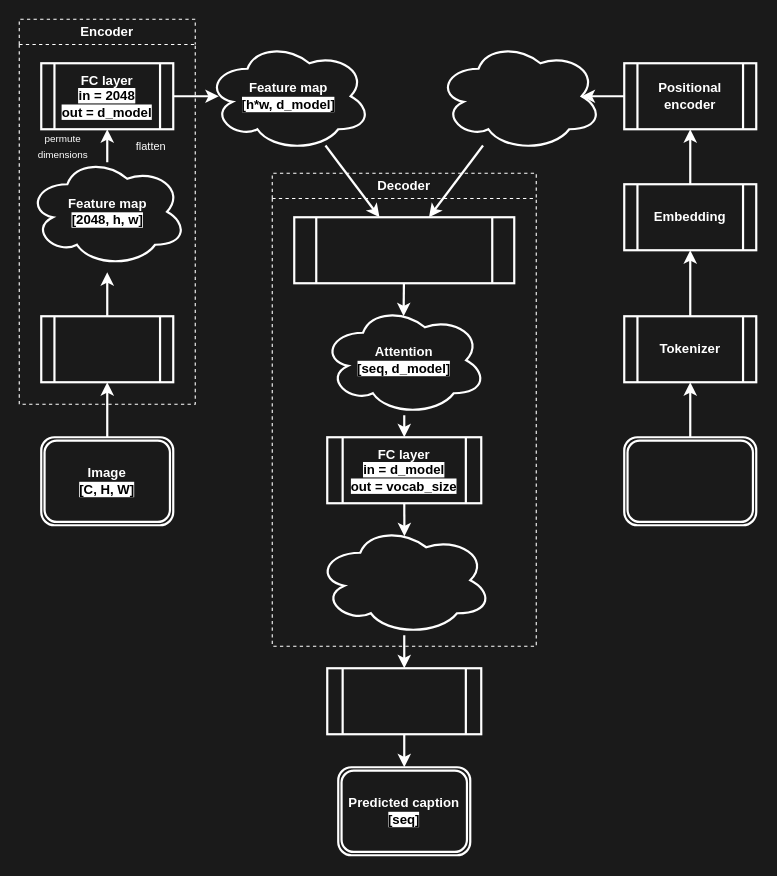
Image size: 777x876. Some labels were removed from this diagram. The centre of each missing label's shape, as x and y in pixels:
"[seq, vocab_size]" goes at (x=404, y=580).
"Argmax" goes at (x=404, y=701).
"Positional-encoded embedding [seq, d_model]" goes at (x=519, y=96).
"Pretrained ResNet-152" goes at (x=107, y=349).
"Text" goes at (x=690, y=481).
"Transformer module src = feature_map tgt = embedding" goes at (x=404, y=250).
